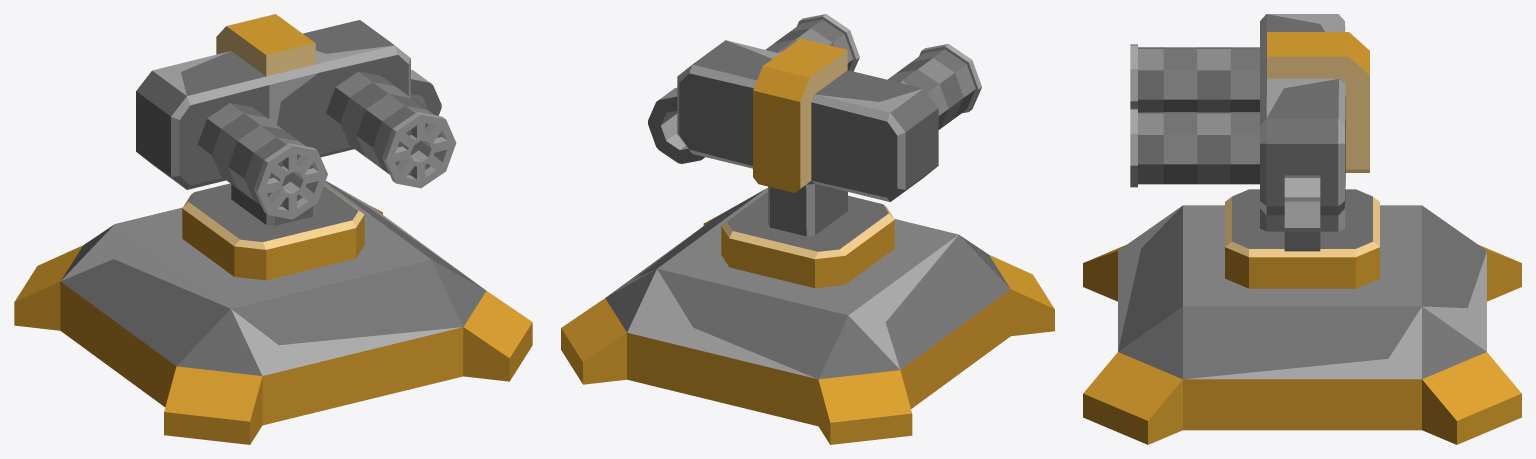
File: tower_gatling_yellow_1.fbx
3 views of the same model, side by side, from view 1: azimuth 30°, elevation 25°; view 2: azimuth 150°, elevation 25°; view 3: azimuth 270°, elevation 25° (orthographic). The views are drawn at different scales.
Parts seen in each view (by area): view 1: tower_gatling_yellow_1, top_gatling_yellow_1; view 2: tower_gatling_yellow_1, top_gatling_yellow_1; view 3: tower_gatling_yellow_1, top_gatling_yellow_1.
Boxes of the visible parts, x1,y1,x2,y2 form: tower_gatling_yellow_1: (14,181,532,444); top_gatling_yellow_1: (136,14,456,280); tower_gatling_yellow_1: (561,188,1054,444); top_gatling_yellow_1: (648,14,981,288); tower_gatling_yellow_1: (1083,205,1521,444); top_gatling_yellow_1: (1130,14,1379,288).
Size of the model in its own units: 158 by 122 by 158.
